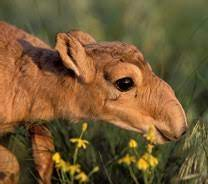saiga: (1, 19, 188, 184)
